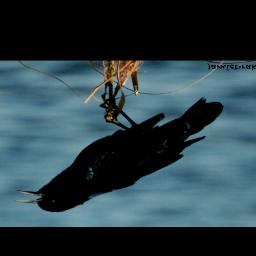Crow: (16, 93, 223, 212)
